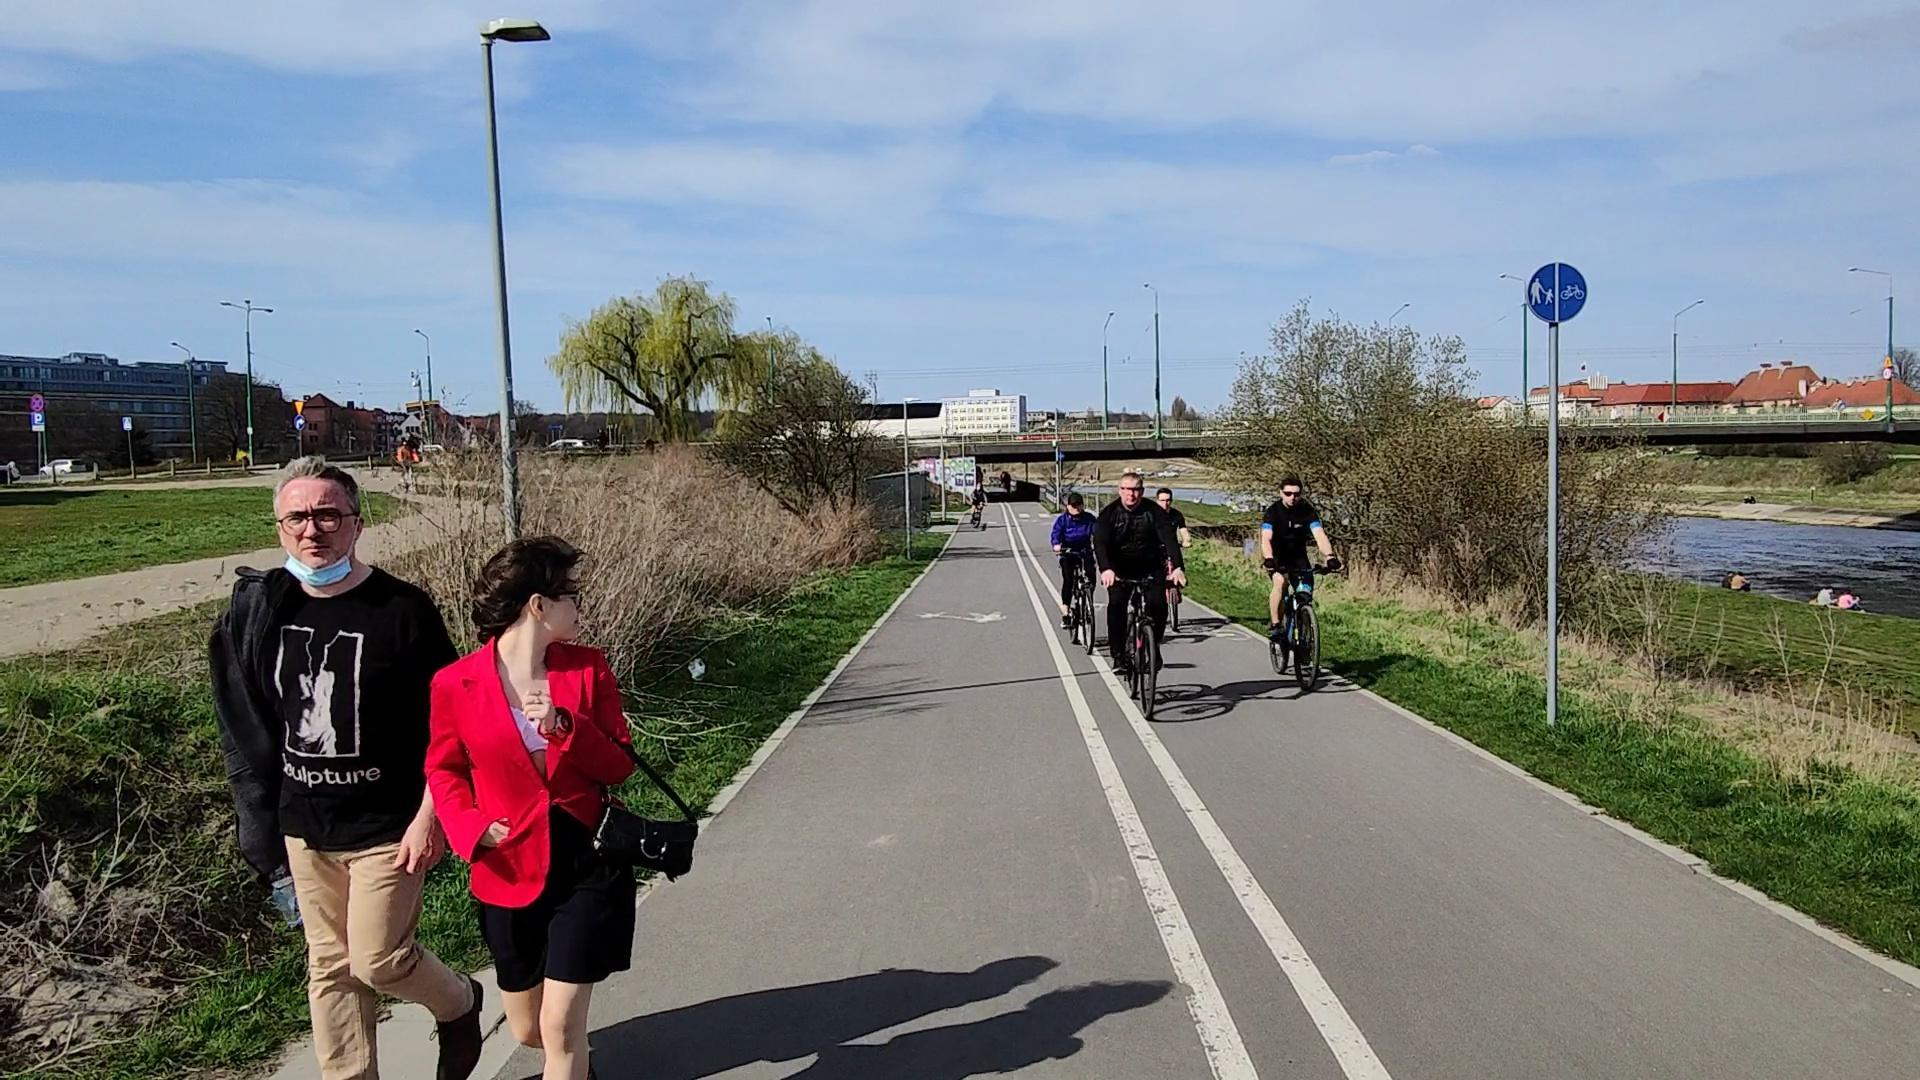cyclist: (1087, 464, 1185, 736), (1253, 474, 1349, 705), (1025, 482, 1110, 663)
